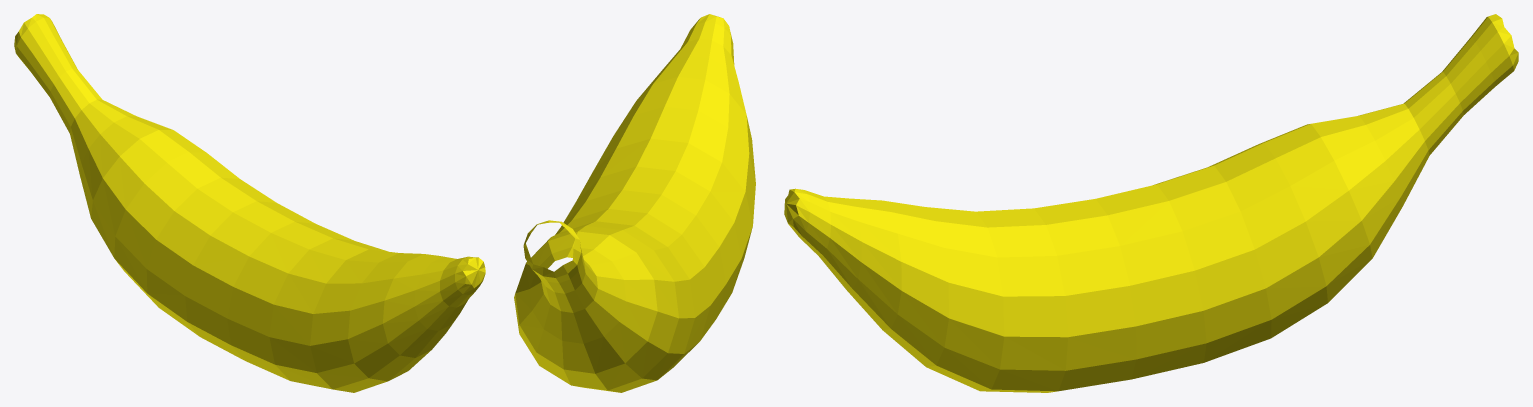
The model's file is banana.gltf.
3 renders of one model, left to right at view 1: azimuth 30°, elevation 25°; view 2: azimuth 150°, elevation 25°; view 3: azimuth 270°, elevation 25°, orthographic. The views are drawn at different scales.
Visible parts, largest first — view 1: Obj_000002; view 2: Obj_000002; view 3: Obj_000002.
Part boxes in pixels (left/top/right/bottom): Obj_000002: left=14, top=14, right=485, bottom=392; Obj_000002: left=514, top=14, right=755, bottom=392; Obj_000002: left=784, top=14, right=1518, bottom=392.
Size of the model in its own units: 2.73 by 3.26 by 7.03.
Materials: 2 (1 with a texture image).
